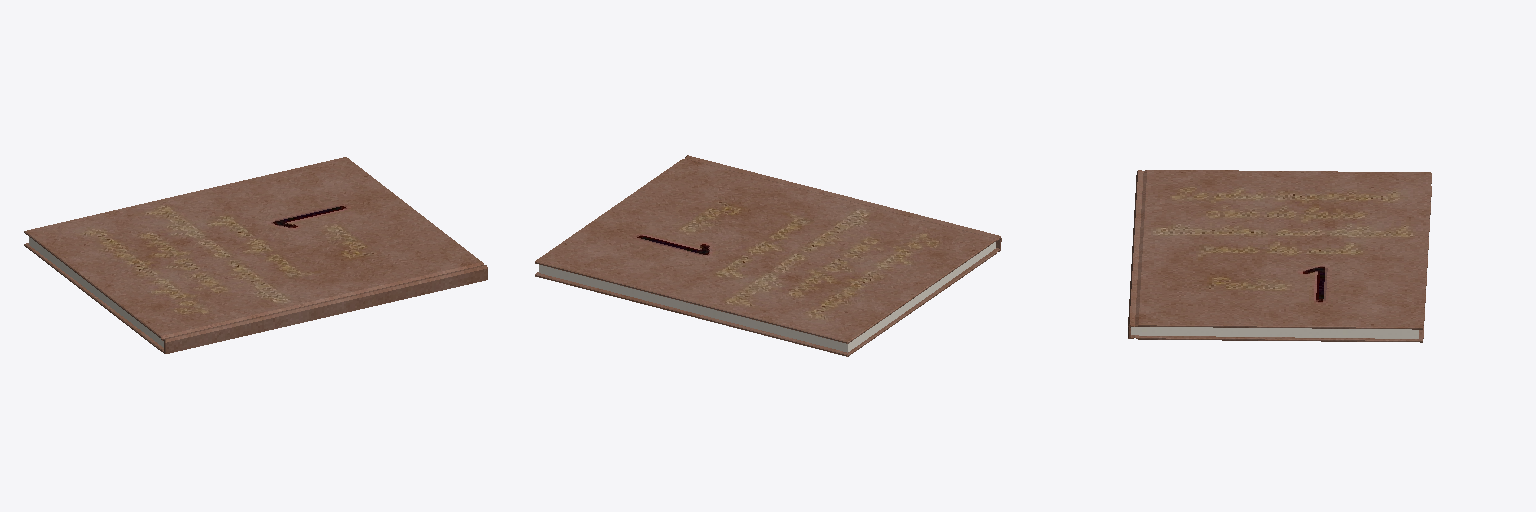
3 renders of one model, left to right at view 1: azimuth 30°, elevation 25°; view 2: azimuth 150°, elevation 25°; view 3: azimuth 270°, elevation 25°, orthographic.
Parts seen in each view (by area): view 1: AM134_15_book_15; view 2: AM134_15_book_15; view 3: AM134_15_book_15.
Boxes of the visible parts, x1=… form: AM134_15_book_15: x1=24, y1=157, x2=487, y2=353; AM134_15_book_15: x1=535, y1=155, x2=1001, y2=356; AM134_15_book_15: x1=1128, y1=170, x2=1431, y2=342.
Bounding box in the file's own units: 34.72 × 1.57 × 28.18.
1 materials, 1 textured.